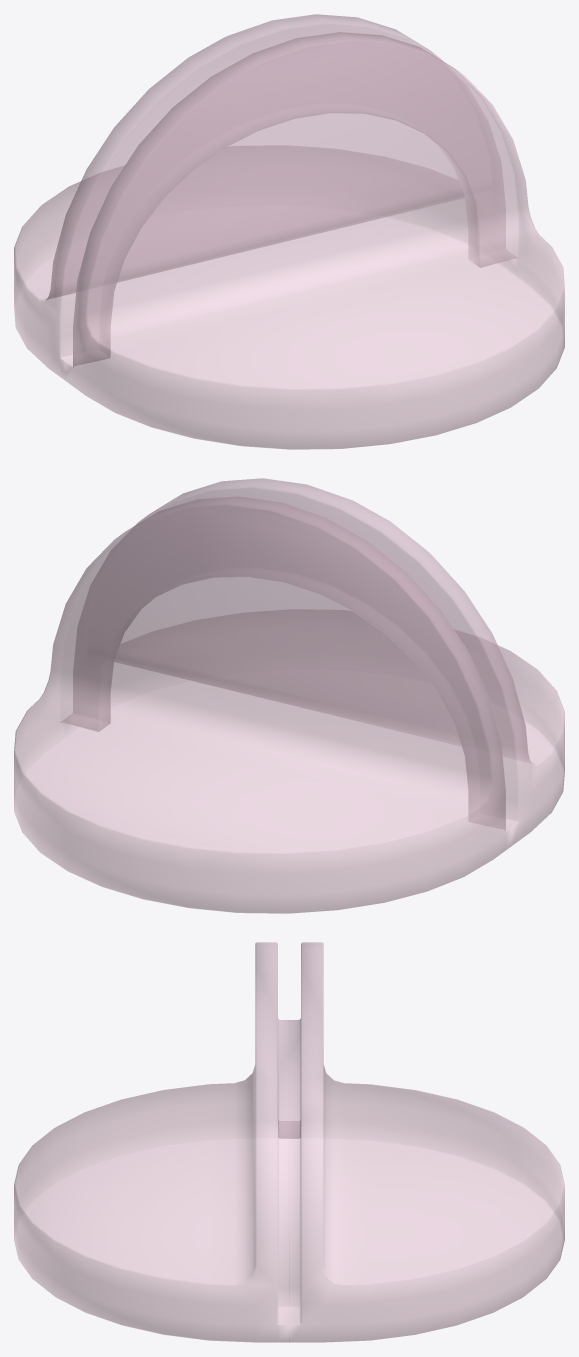
File: cardholder-rot.glb
3 views of the same model, one above another, from view 1: azimuth 30°, elevation 25°; view 2: azimuth 150°, elevation 25°; view 3: azimuth 270°, elevation 25° (orthographic). The views are drawn at different scales.
Visible parts, largest first — view 1: Cardholder_Red; view 2: Cardholder_Red; view 3: Cardholder_Red.
Boxes of the visible parts, left/top/right/bottom form: Cardholder_Red: left=14, top=14, right=564, bottom=449; Cardholder_Red: left=14, top=478, right=564, bottom=913; Cardholder_Red: left=14, top=942, right=564, bottom=1342.
Bounding box in the file's own units: 2 × 1.26 × 2.28.
Materials: 1 (1 with a texture image).
